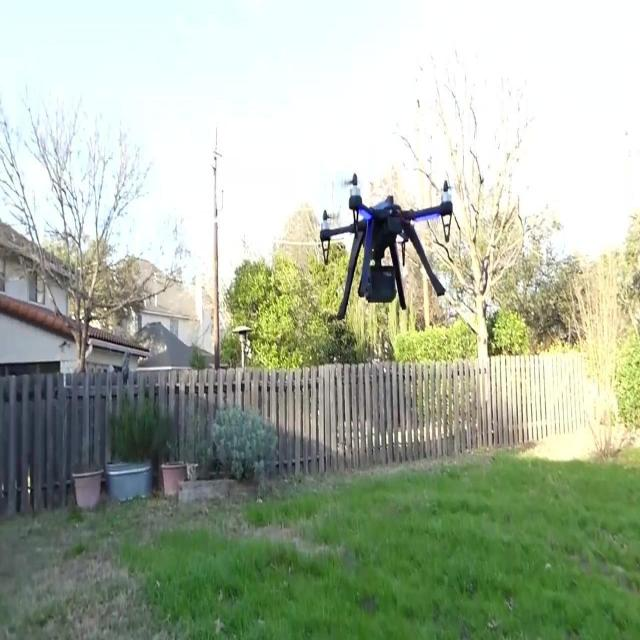UAV: (320, 173, 454, 321)
